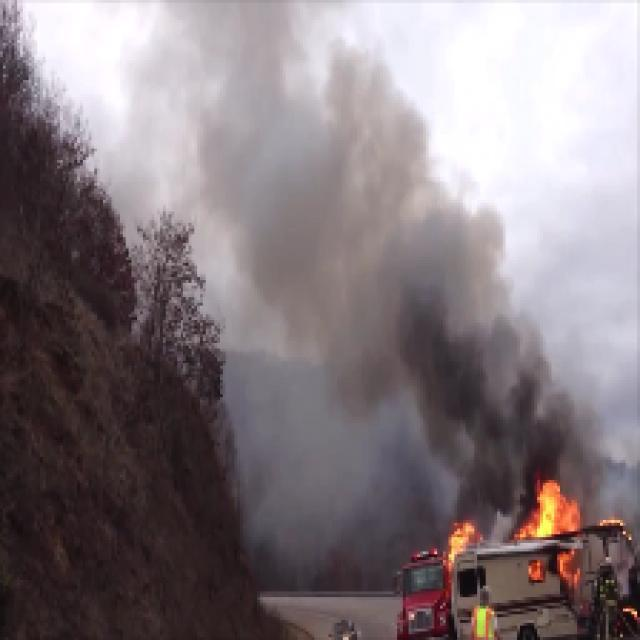Fire: (530, 486, 574, 536)
Smoke: (250, 109, 434, 294), (428, 306, 548, 470), (468, 474, 503, 514)
